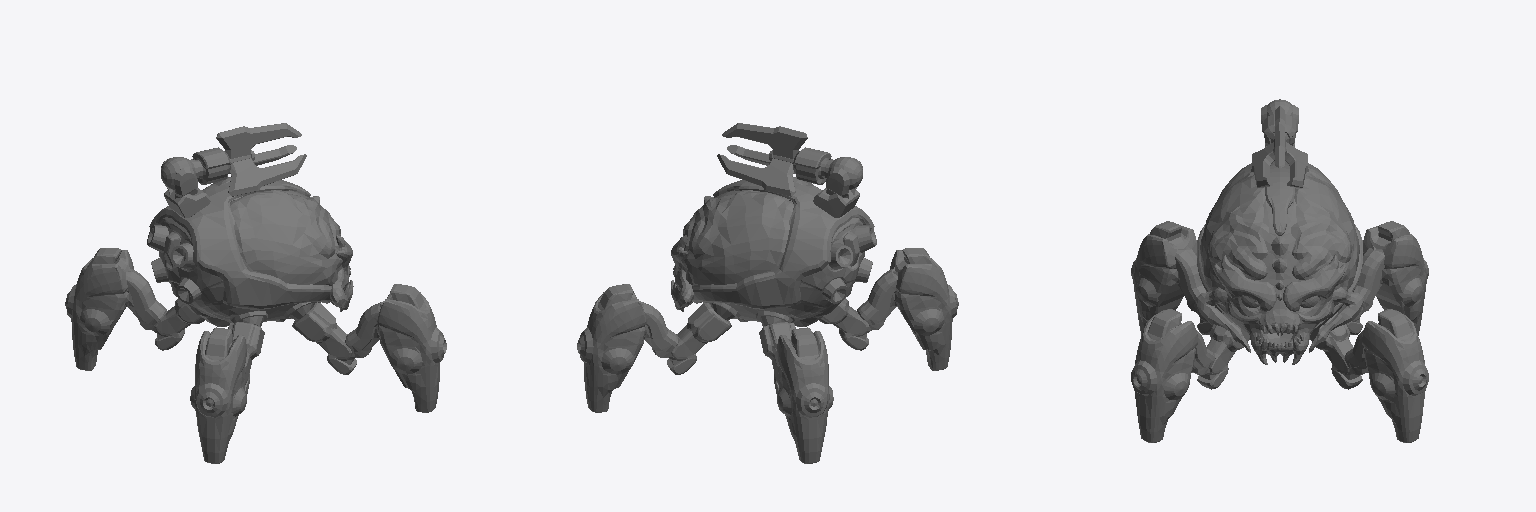
File: Arachnotron.obj
3 views of the same model, side by side, from view 1: azimuth 30°, elevation 25°; view 2: azimuth 150°, elevation 25°; view 3: azimuth 270°, elevation 25° (orthographic).
Parts seen in each view (by area): view 1: arachnotron_toy; view 2: arachnotron_toy; view 3: arachnotron_toy.
Boxes of the visible parts, x1,y1,x2,y2 form: arachnotron_toy: [65, 123, 446, 463]; arachnotron_toy: [577, 123, 958, 463]; arachnotron_toy: [1131, 99, 1428, 442].
Bounding box in the file's own units: 10.32 × 10.53 × 10.75.